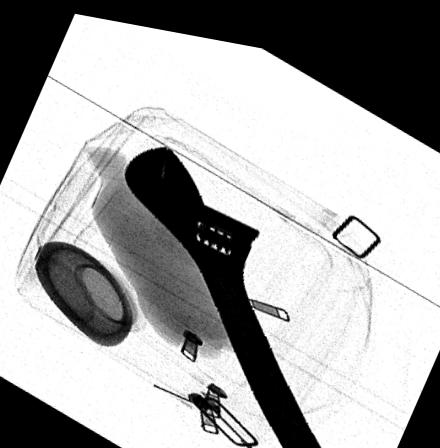Wrench: (118, 137, 331, 448)
